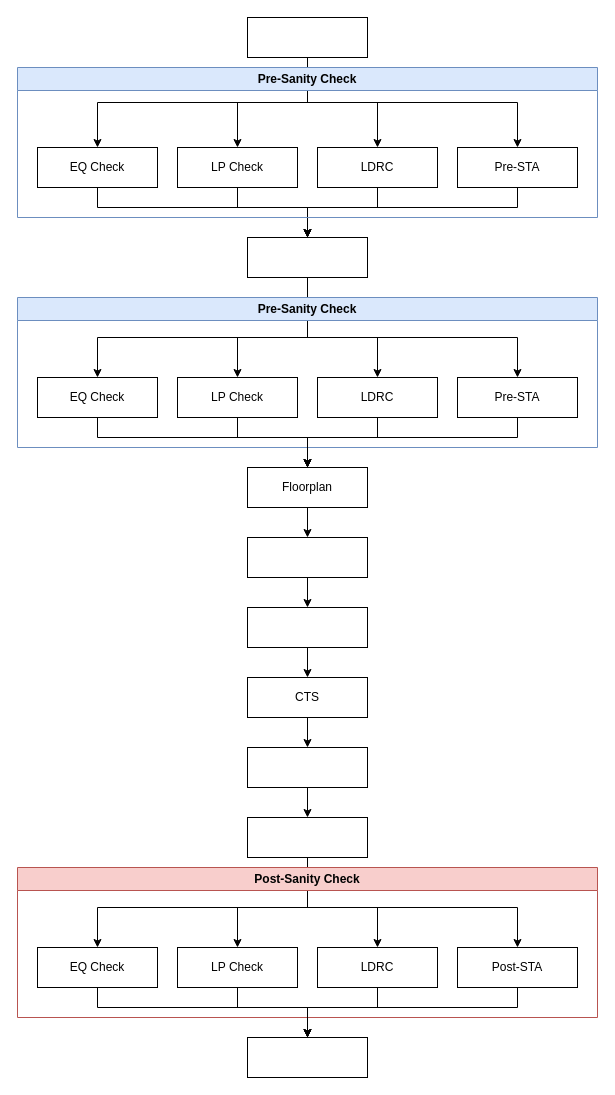
Some shapes in this 615 by 1095 pixel diagram are drawn without their labels. Each missing label, with the centre of its shape:
"Chip Finish" belongs at point 307,837.
"DFT" belongs at point 307,257.
"ECO" belongs at point 307,1057.
"Place" belongs at point 307,627.
"Powerplan" belongs at point 307,557.
"Route" belongs at point 307,767.
"RTL Synthesis" belongs at point 307,37.
